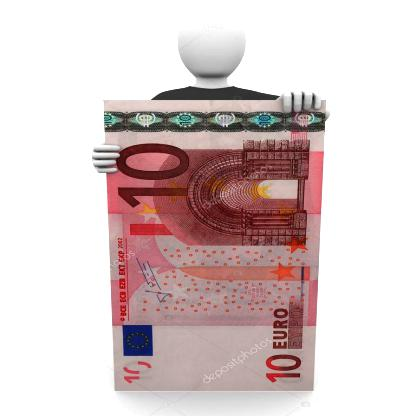euro_banknote: (69, 135, 362, 358)
